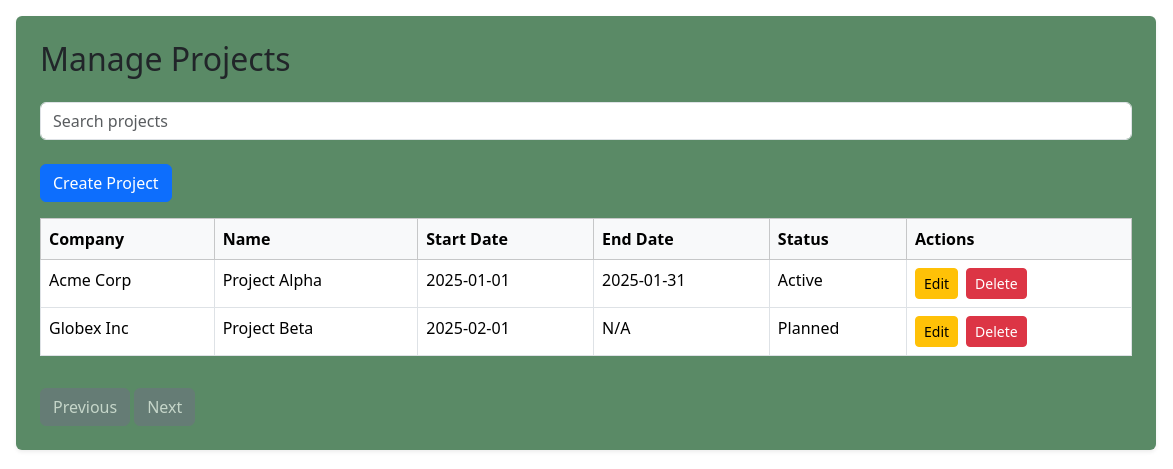
Test: ManageProjects Page › filters by search term
Check: the text "Project Alpha" is shown, box x1=214 y1=260 x2=418 y2=308
Type "Beta" into the field with placeholder "Search projects" at (586, 121), box x1=40 y1=102 x2=1132 y2=140
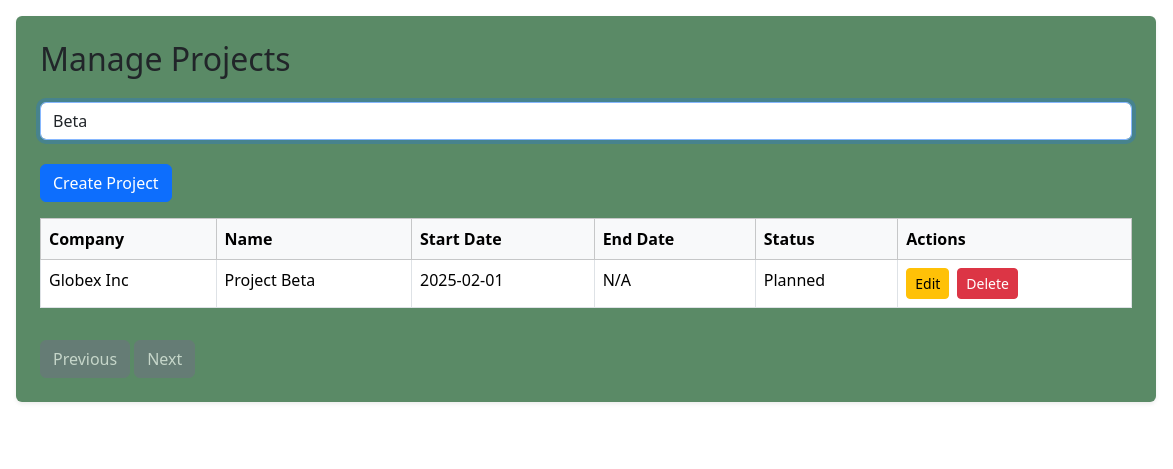
Check: the text "Project Beta" is shown, box x1=216 y1=260 x2=412 y2=308
Check: the text "Project Alpha" is gone
